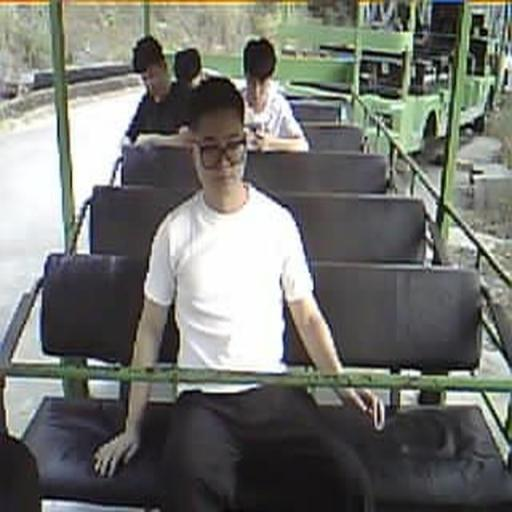persona: (103, 75, 385, 512), (120, 36, 198, 153), (236, 37, 310, 156), (172, 49, 227, 89)
